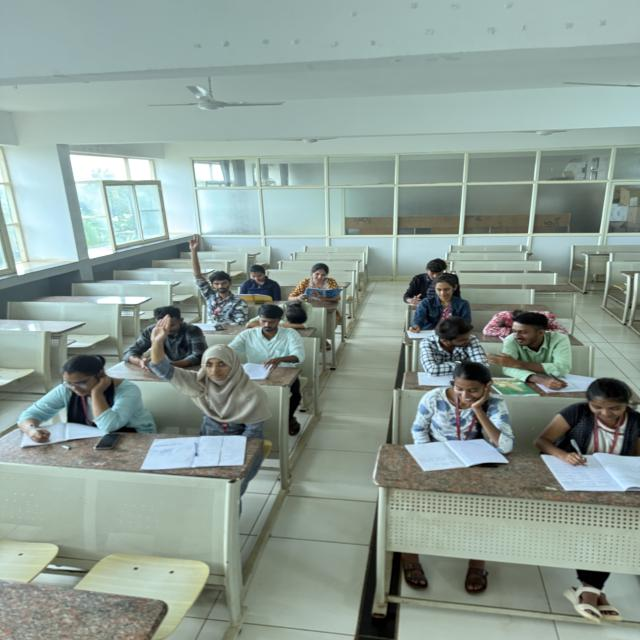Hand Rising: (146, 309, 271, 435), (183, 227, 250, 322)
Reading: (287, 262, 349, 303), (231, 263, 283, 302)
Sleeping: (481, 306, 572, 339), (245, 296, 317, 332)
Writing: (8, 350, 158, 441), (528, 372, 640, 466), (408, 358, 516, 450), (494, 313, 585, 393), (401, 274, 471, 333), (401, 254, 464, 304)
